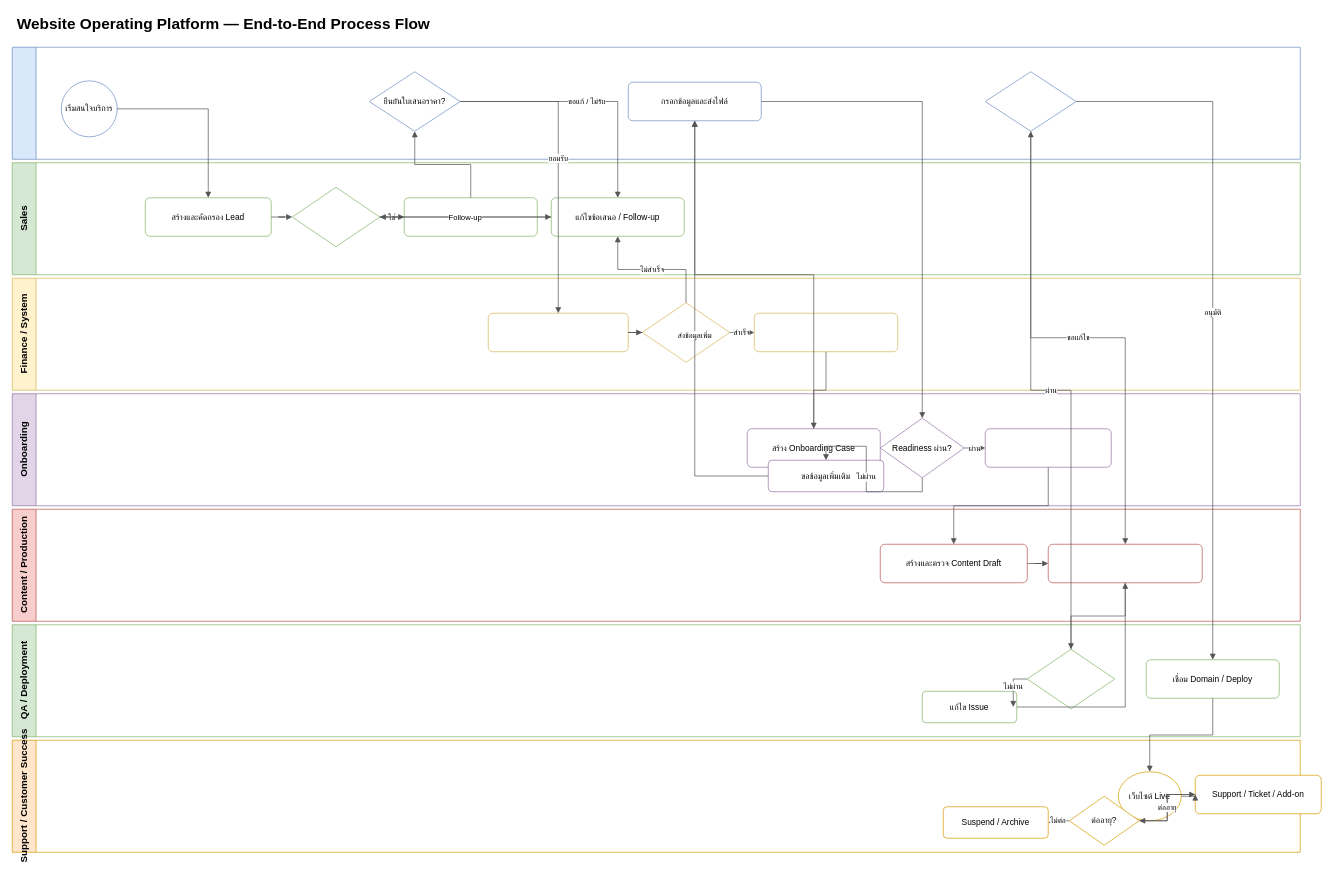
Image size: 1334x875. Some labels were removed from this diagram. Each missing label, with the box of its shape:
Internal QA ผ่าน?: (1027, 649, 1115, 709)
Lead ผ่านเกณฑ์?: (292, 187, 380, 247)
ชำระเงินสำเร็จ?: (642, 302, 730, 362)
ประกอบเว็บไซต์จาก Component: (1048, 544, 1202, 583)
ลูกค้า: (12, 47, 1300, 159)
สร้าง Production Job: (985, 428, 1111, 467)
สร้างสัญญาและข้อมูลลูกค้า: (488, 313, 628, 352)
สร้างและส่งใบเสนอราคา: (404, 197, 537, 236)
อนุมัติเผยแพร่?: (985, 71, 1076, 131)
เปิด Subscription และ Tenant: (754, 313, 898, 352)
